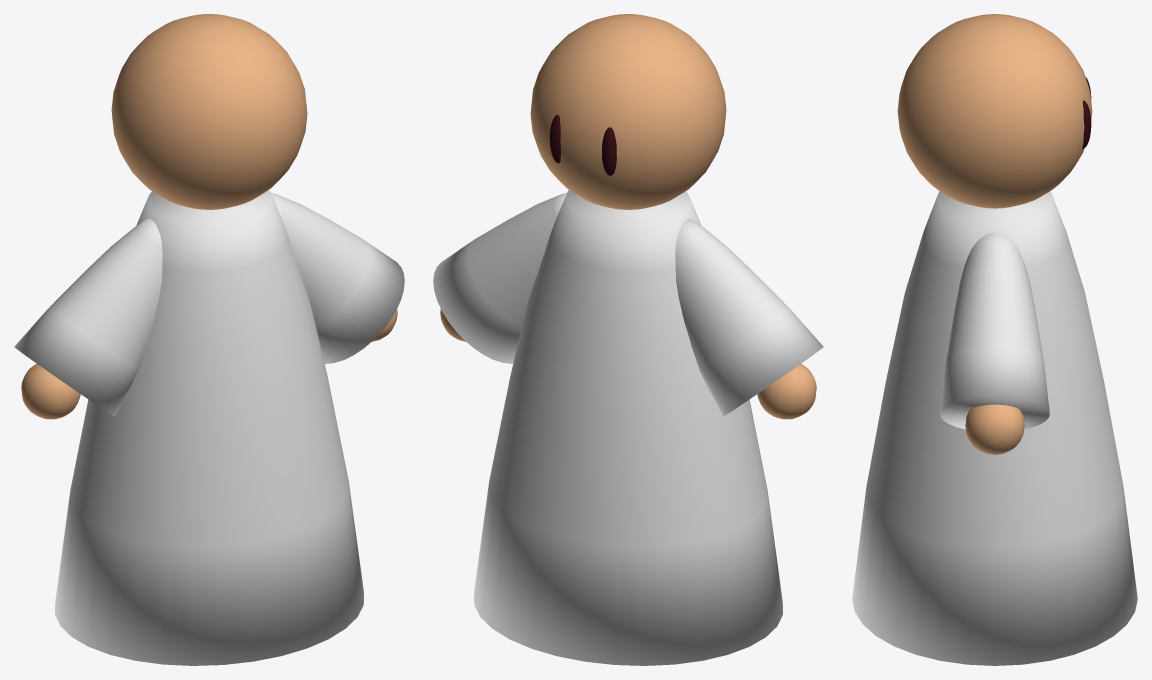
Rendered from dummy.glb.
3 renders of one model, left to right at view 1: azimuth 30°, elevation 25°; view 2: azimuth 150°, elevation 25°; view 3: azimuth 270°, elevation 25°, orthographic.
Visible parts, largest first — view 1: 躯干, 头, 袖子, 手; view 2: 躯干, 头, 袖子, 手, 眼睛; view 3: 躯干, 头, 袖子, 手.
Part boxes in pixels (x1,y1,x2,y2): 躯干: [55, 190, 363, 665]; 头: [111, 14, 307, 209]; 袖子: [14, 192, 404, 416]; 手: [21, 309, 397, 419]; 躯干: [474, 190, 782, 665]; 头: [530, 14, 726, 209]; 袖子: [433, 192, 823, 416]; 手: [440, 309, 816, 419]; 眼睛: [549, 114, 616, 175]; 躯干: [852, 191, 1137, 665]; 头: [897, 14, 1092, 208]; 袖子: [940, 232, 1049, 429]; 手: [965, 404, 1024, 454].
Bounding box in the file's own units: 0.931 × 1.38 × 0.6203.
